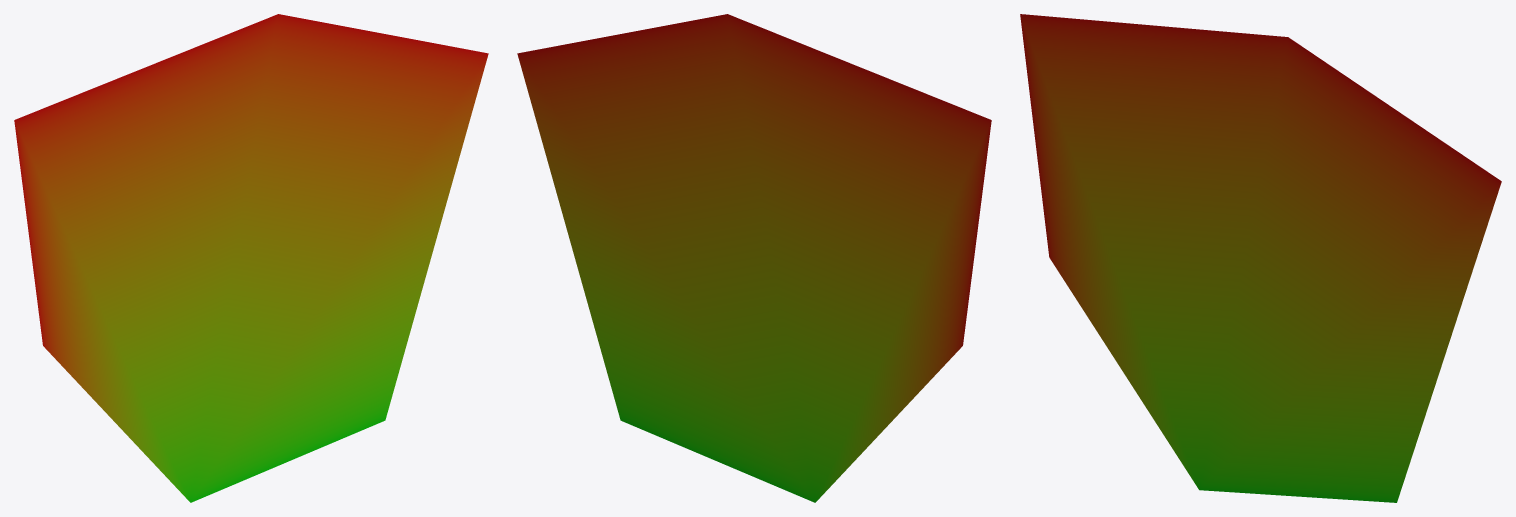
Rendered from Alpine Bearberry_LOD5_Var9_xb0gdazqx.fbx.
3 views of the same model, side by side, from view 1: azimuth 30°, elevation 25°; view 2: azimuth 150°, elevation 25°; view 3: azimuth 330°, elevation 25° (orthographic).
Parts seen in each view (by area): view 1: _fogo_Var9_LOD5; view 2: _fogo_Var9_LOD5; view 3: _fogo_Var9_LOD5.
Boxes of the visible parts, bbox=[...] form: _fogo_Var9_LOD5: bbox=[14, 14, 488, 502]; _fogo_Var9_LOD5: bbox=[517, 14, 991, 502]; _fogo_Var9_LOD5: bbox=[1020, 14, 1501, 502].
Size of the model in its own units: 10.76 by 10.13 by 4.43e-07.
